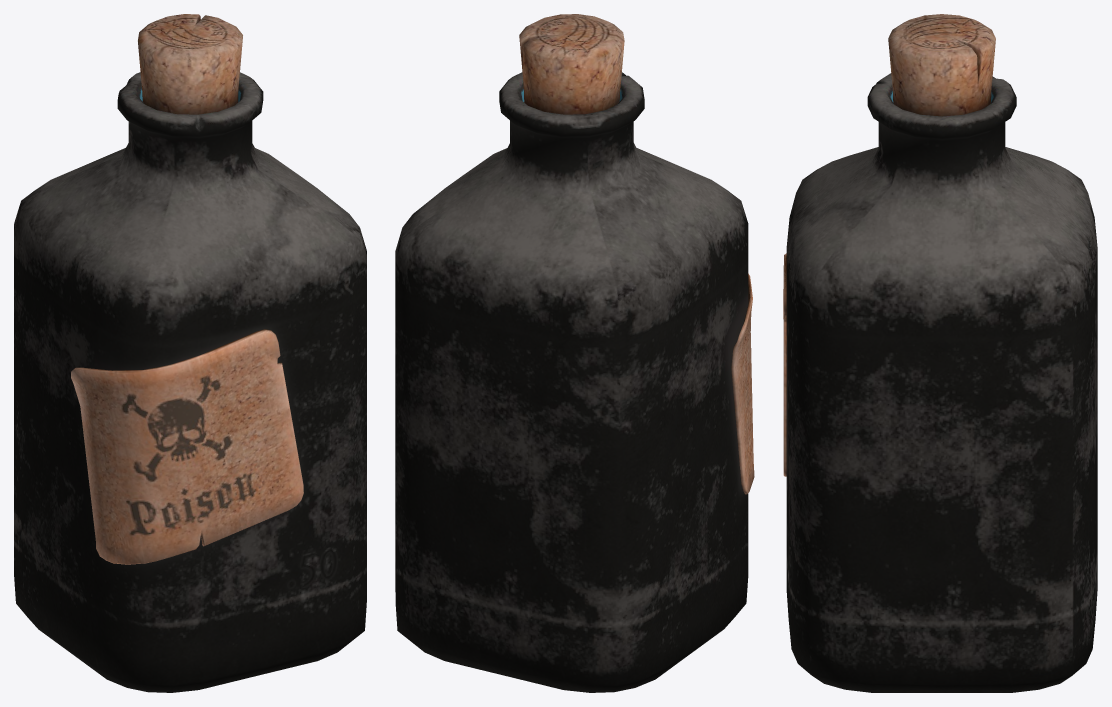
Rendered from poison2fbx.fbx.
3 views of the same model, side by side, from view 1: azimuth 30°, elevation 25°; view 2: azimuth 150°, elevation 25°; view 3: azimuth 270°, elevation 25° (orthographic).
Parts seen in each view (by area): view 1: Bottle_LP, Lable_LP, Cork_LP; view 2: Bottle_LP, Cork_LP, Lable_LP; view 3: Bottle_LP, Cork_LP, Lable_LP.
Part boxes in pixels (x1,y1,x2,y2): Bottle_LP: (14,72,366,692); Lable_LP: (71,329,303,564); Cork_LP: (138,14,242,114); Bottle_LP: (395,72,748,692); Cork_LP: (519,14,624,114); Lable_LP: (731,273,754,494); Bottle_LP: (786,73,1097,692); Cork_LP: (888,14,995,116); Lable_LP: (783,253,786,476).
Size of the model in its own units: 2091 by 4281 by 2021.
Materials: 1 (1 with a texture image).
